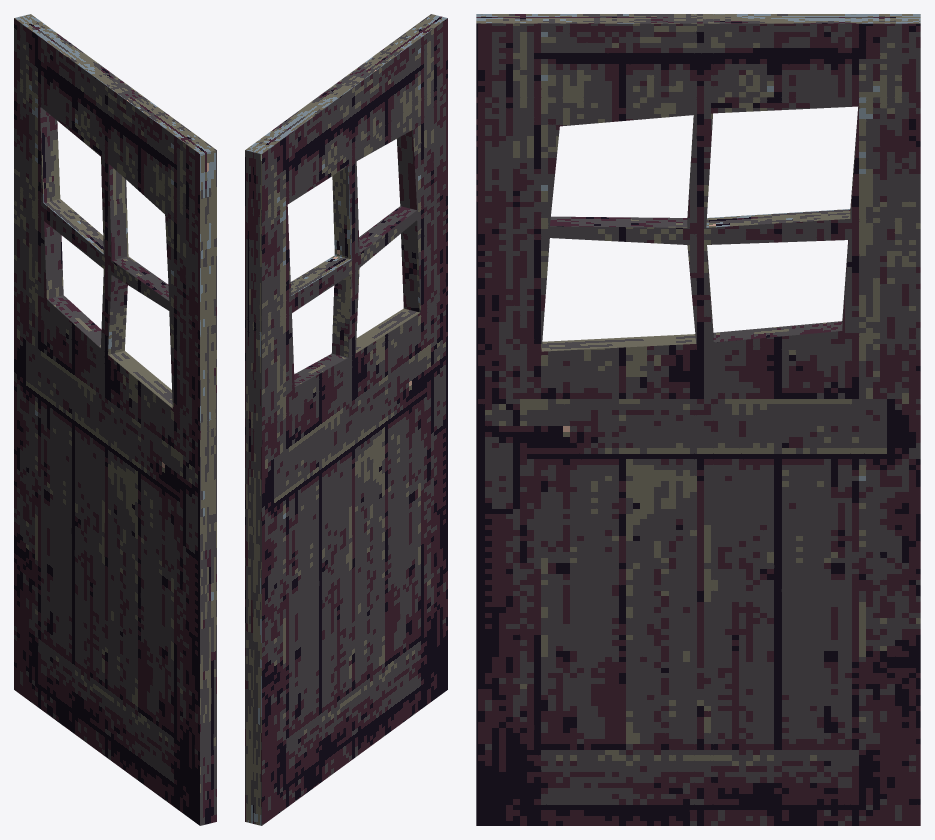
Rendered from door.gltf.
The picture shows the model from 3 angles, left to right: view 1: azimuth 30°, elevation 25°; view 2: azimuth 150°, elevation 25°; view 3: azimuth 270°, elevation 25°; orthographic projection. The views are drawn at different scales.
Visible parts, largest first — view 1: door; view 2: door; view 3: door.
Part boxes in pixels (bbox=[...]): door: bbox=[14, 14, 216, 825]; door: bbox=[245, 14, 447, 825]; door: bbox=[476, 14, 920, 825].
Bounding box in the file's own units: 0.0628 × 2.39 × 1.2.
1 material, 1 textured.
